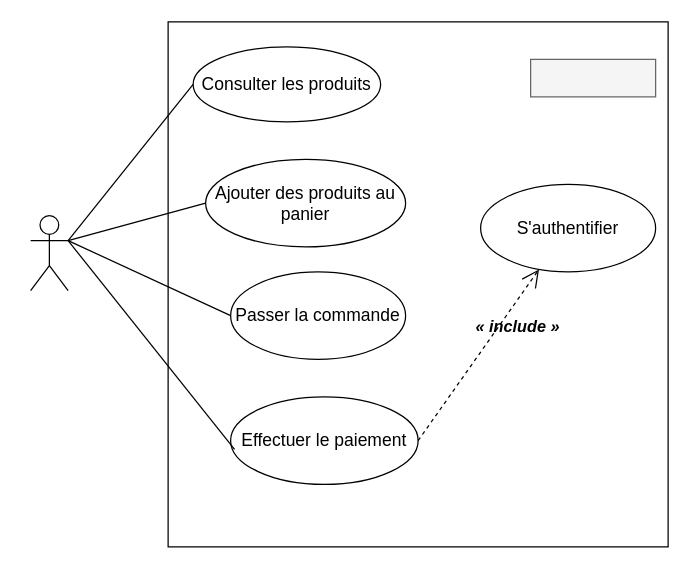
Image size: 690x569. Some labels were removed from this diagram. Here are the shapes that lost their labels. From the top down, the box of each, then its label:
(529, 58, 656, 97): Espace client
(29, 214, 68, 291): Client
